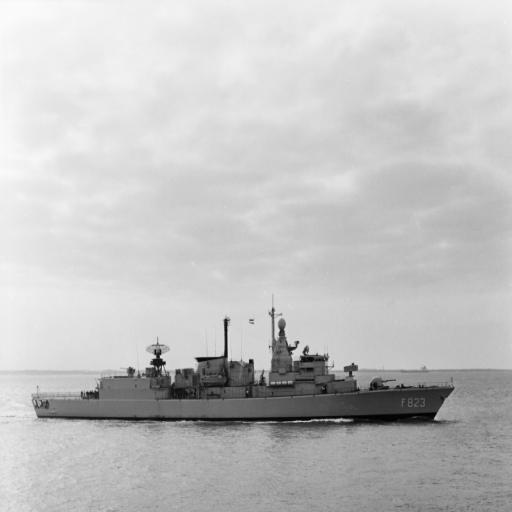Fragata: (29, 292, 462, 429)
